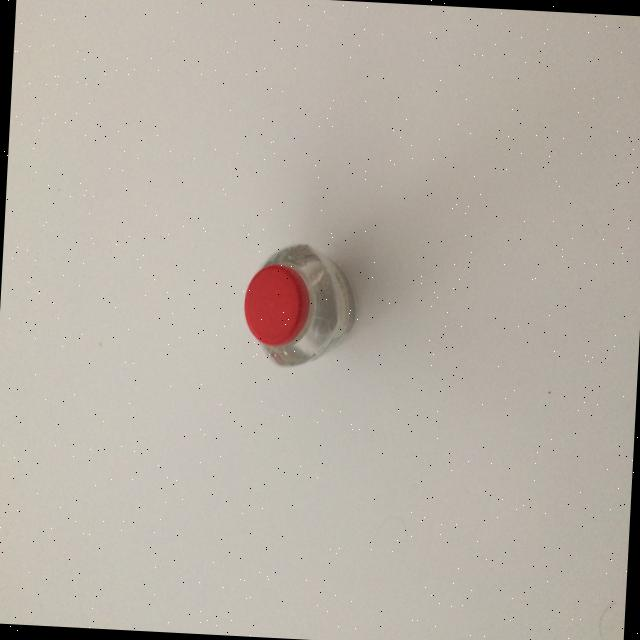plastic: (240, 240, 360, 370)
